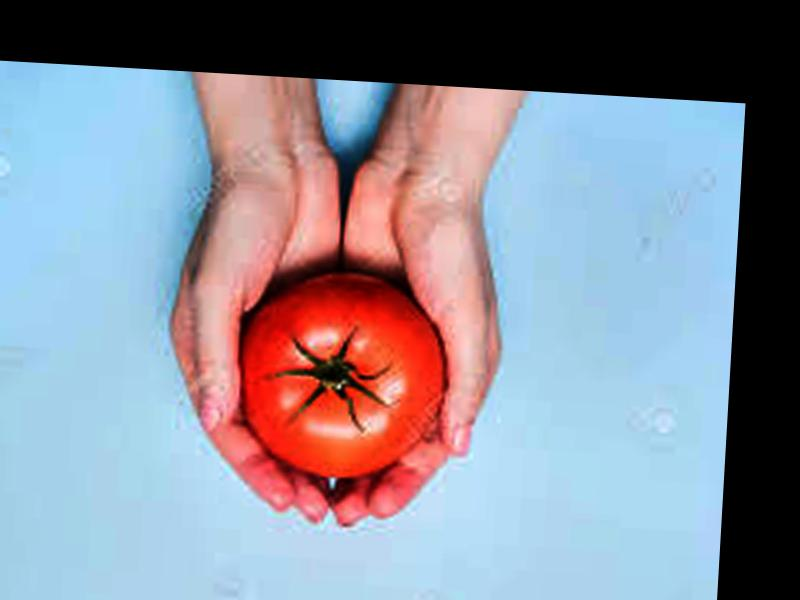Tomato: (228, 268, 450, 482)
